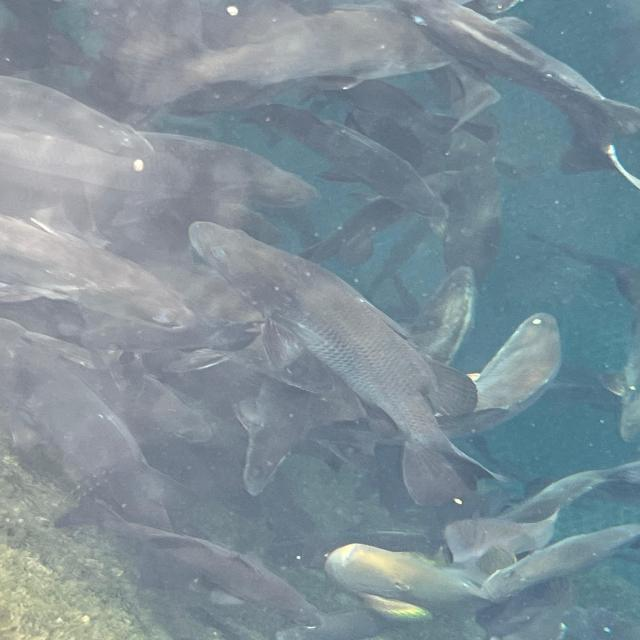ikan: (185, 218, 509, 508), (66, 498, 327, 630), (235, 102, 450, 231)
